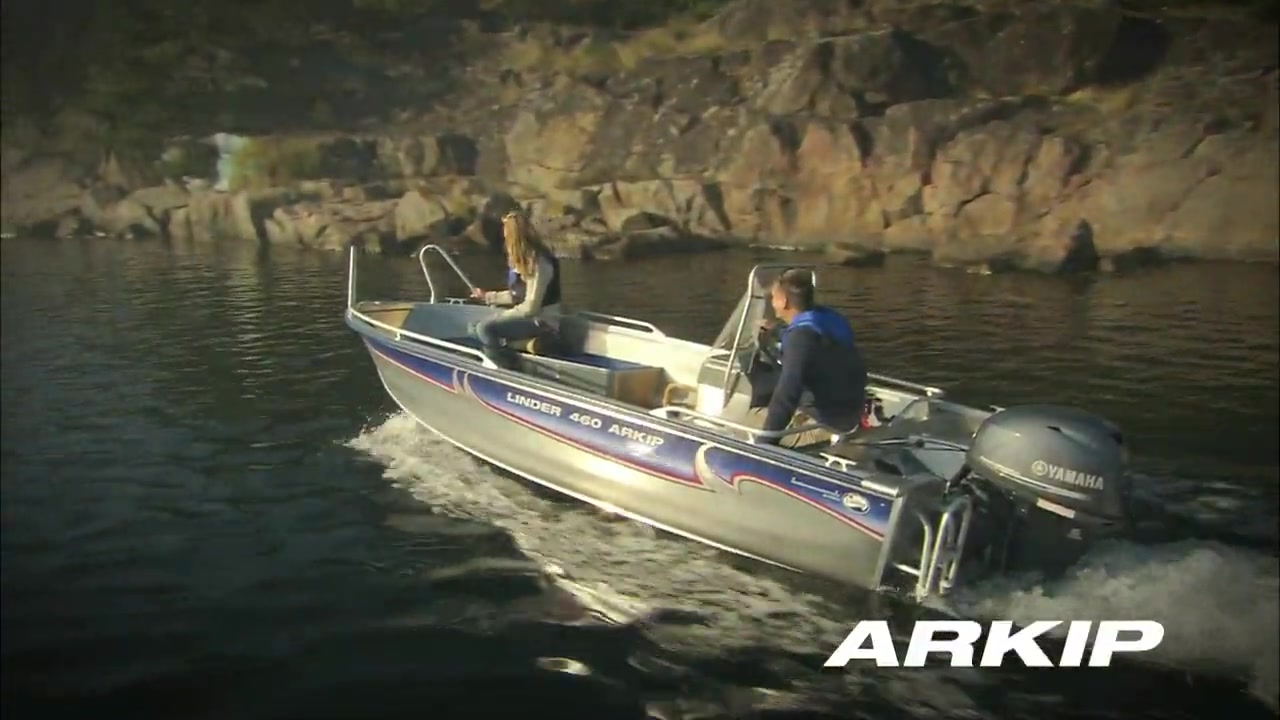boat: (344, 242, 1132, 583)
